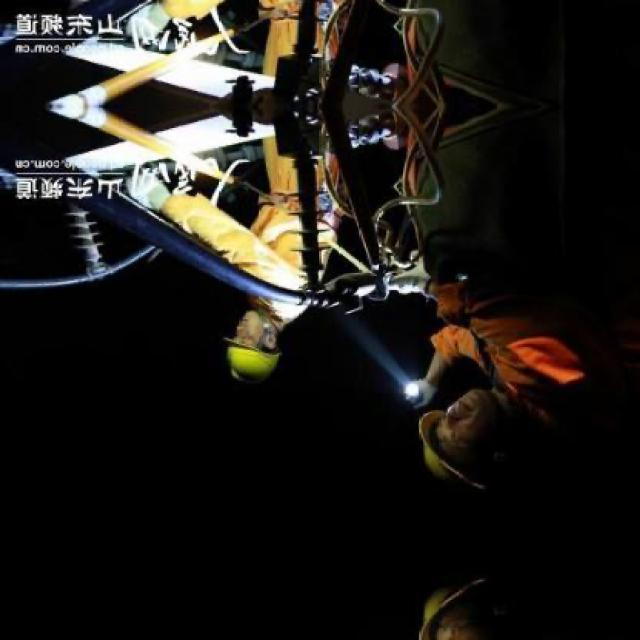con casco: (374, 383, 558, 518), (210, 333, 288, 377)
